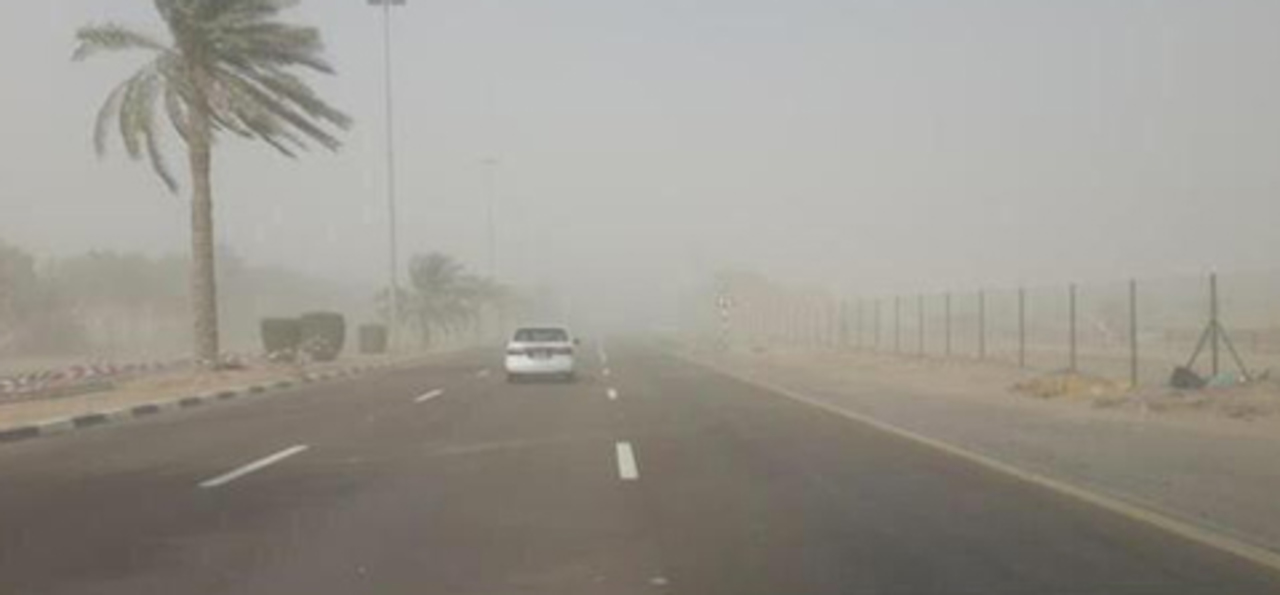car: (503, 326, 576, 382)
